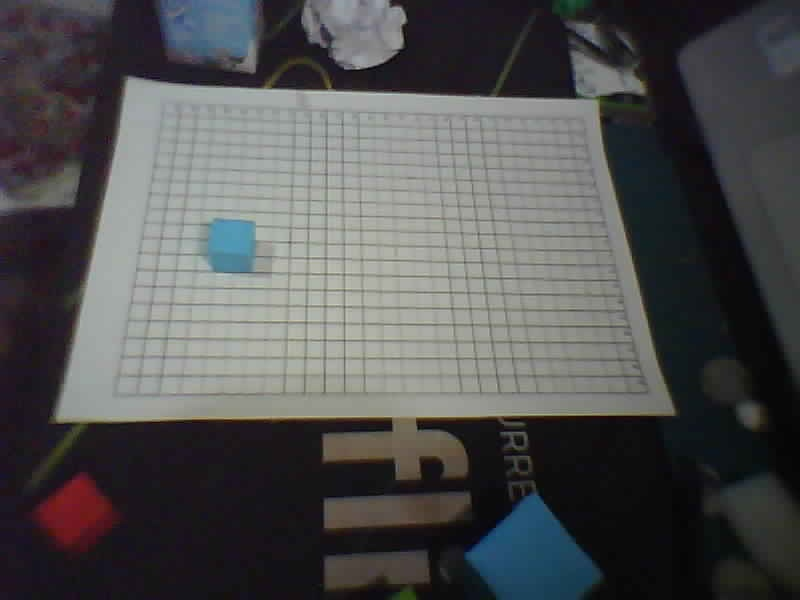blue(2x2x2): (197, 207, 267, 287)
